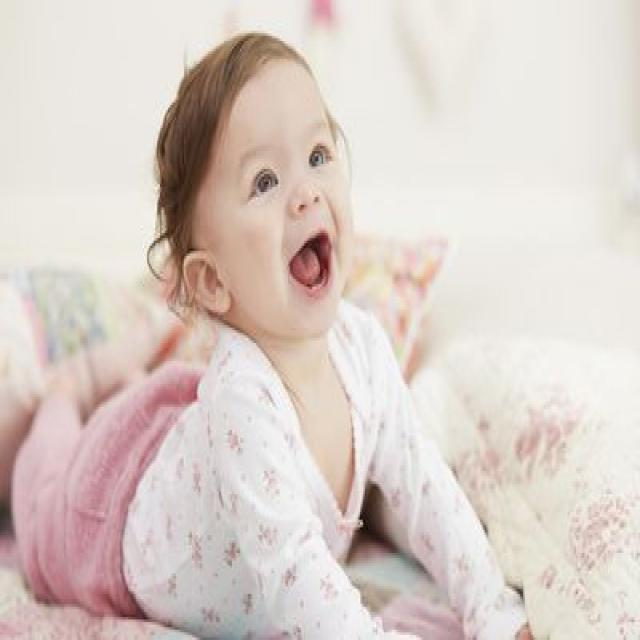non-dog: (0, 30, 537, 640)
